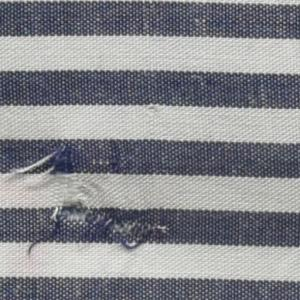Damage: (7, 135, 179, 260)
